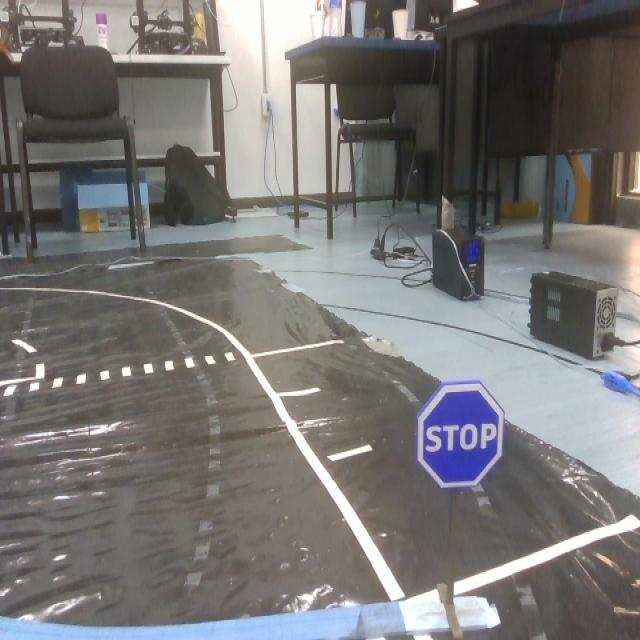no_entry: (421, 378, 499, 494)
